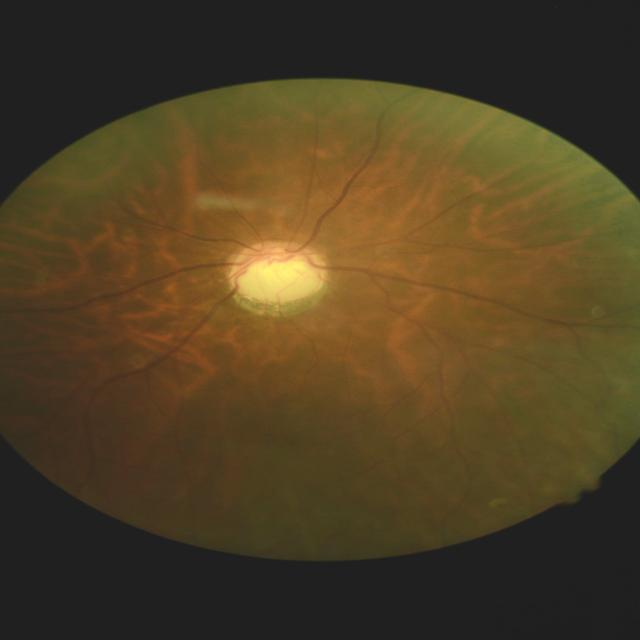cup: (238, 249, 318, 293)
disk: (227, 239, 330, 303)
